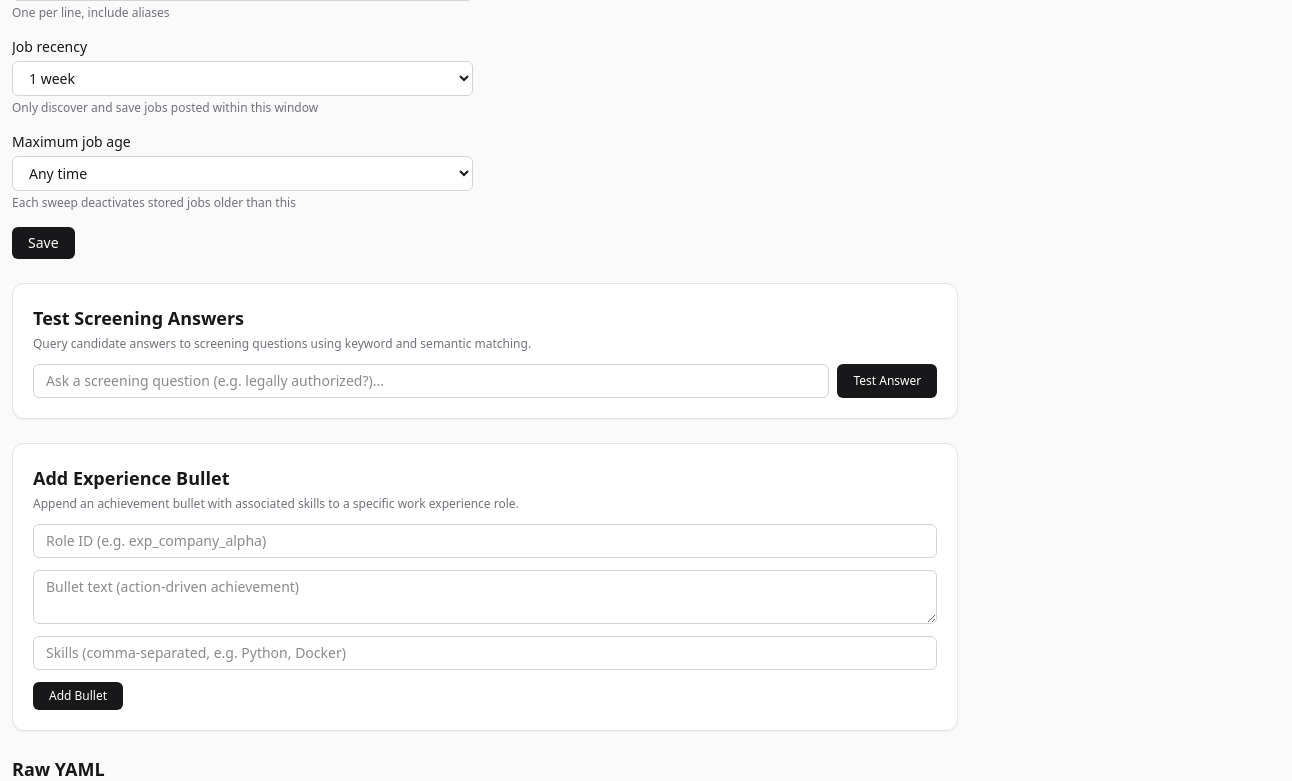
Test case: Profile page › tests screening question queries
(page scrolled)
Type "Legally authorized?" into the field with placeholder "Ask a screening question (e.g. legally authorized?)..." at (431, 381), box [33,364,830,398]
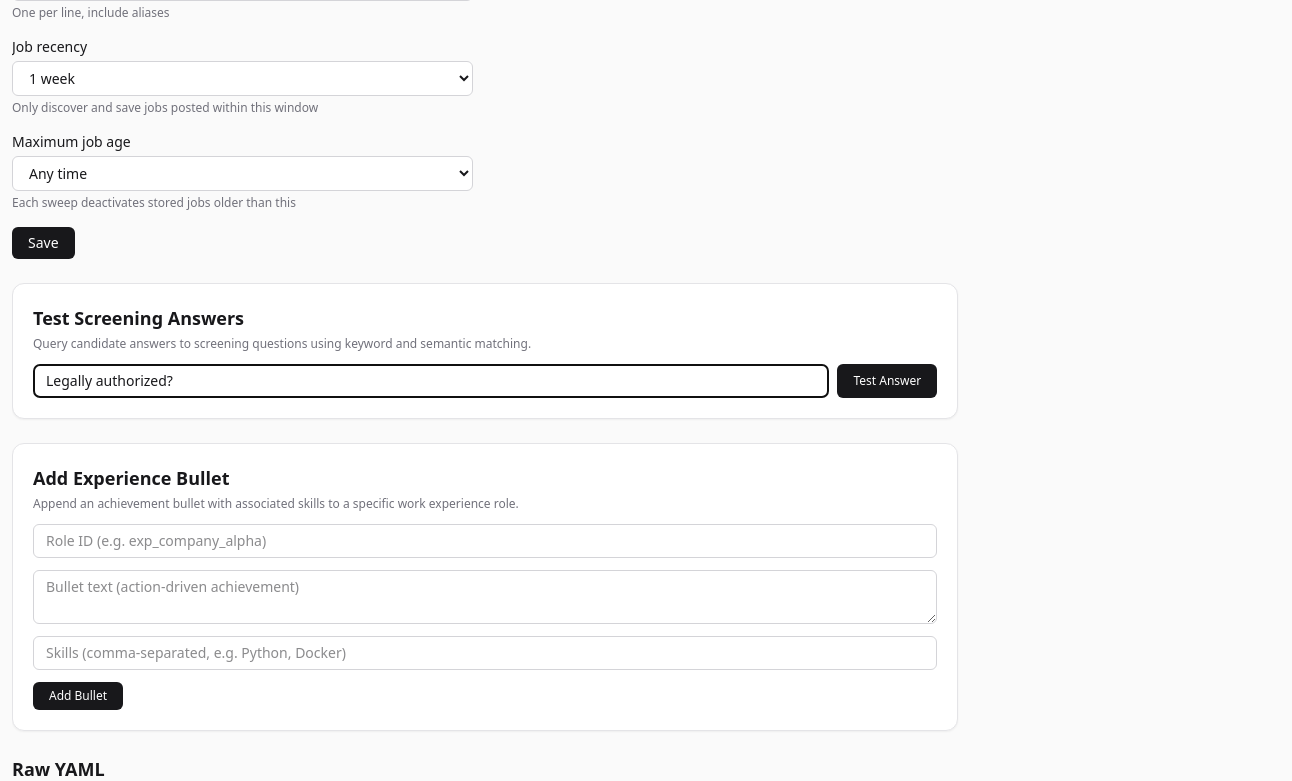
Click the button "Test Answer" at (887, 381), box [838,364,937,398]
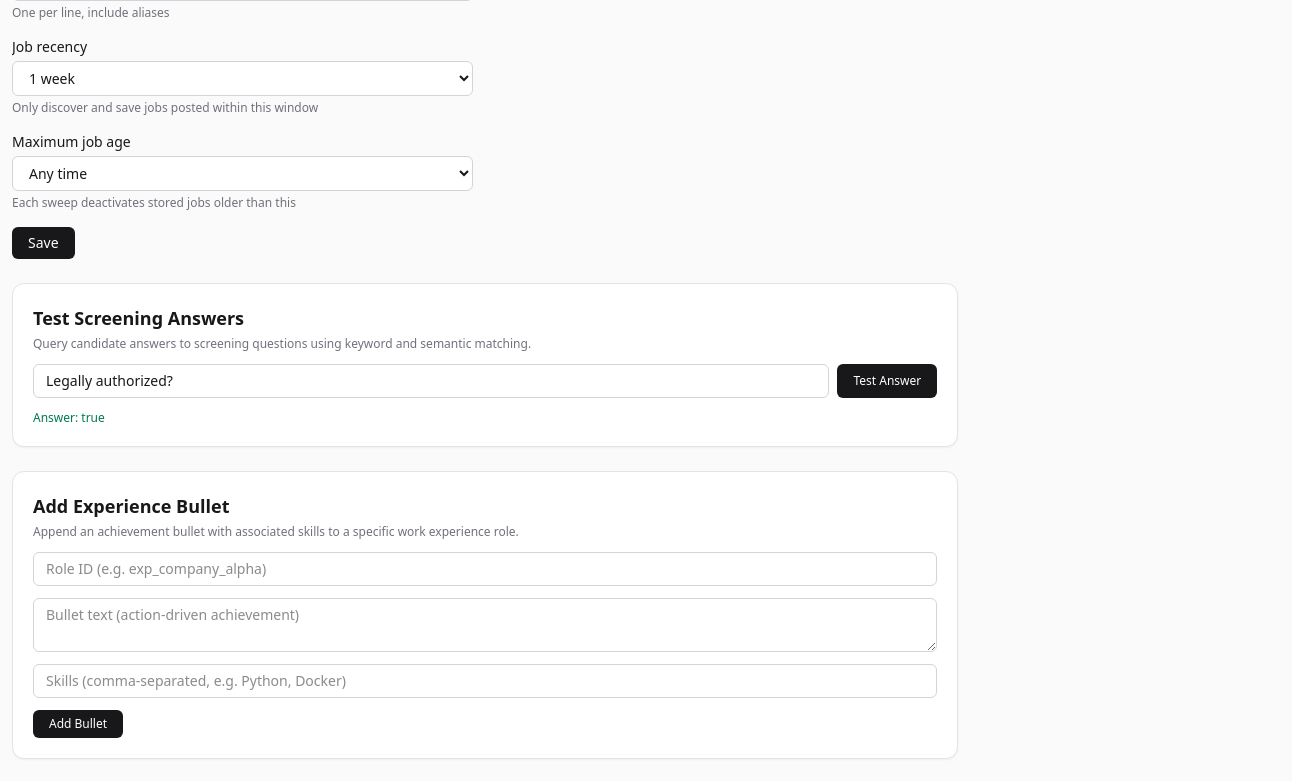
Expected: the text "Answer: true" is shown, [33,409,105,426]
